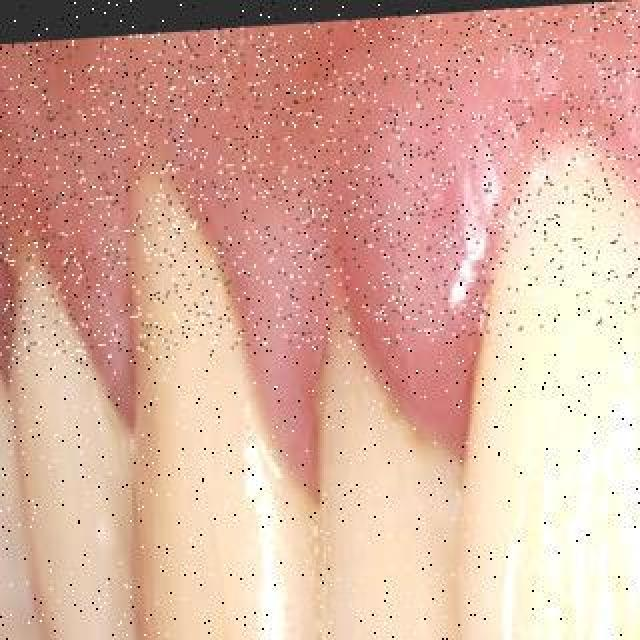maligned: (294, 318, 492, 640)
